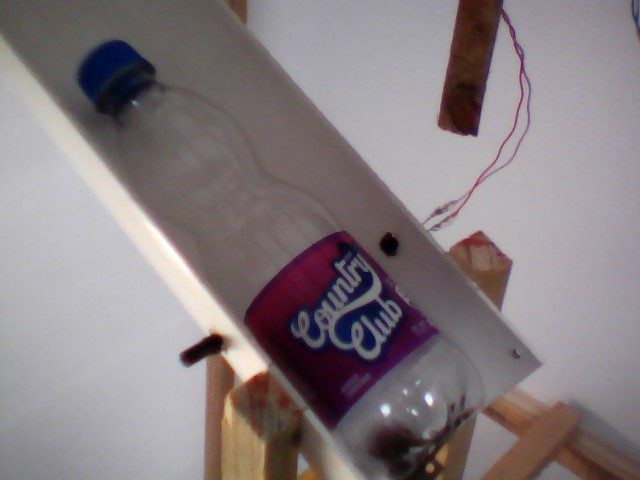plastico: (72, 30, 491, 480)
